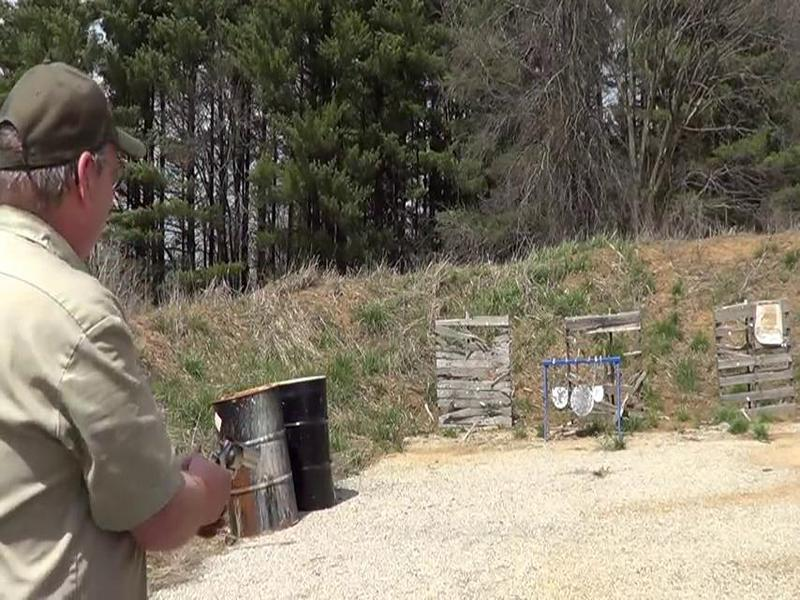Revolver: (188, 424, 280, 514)
